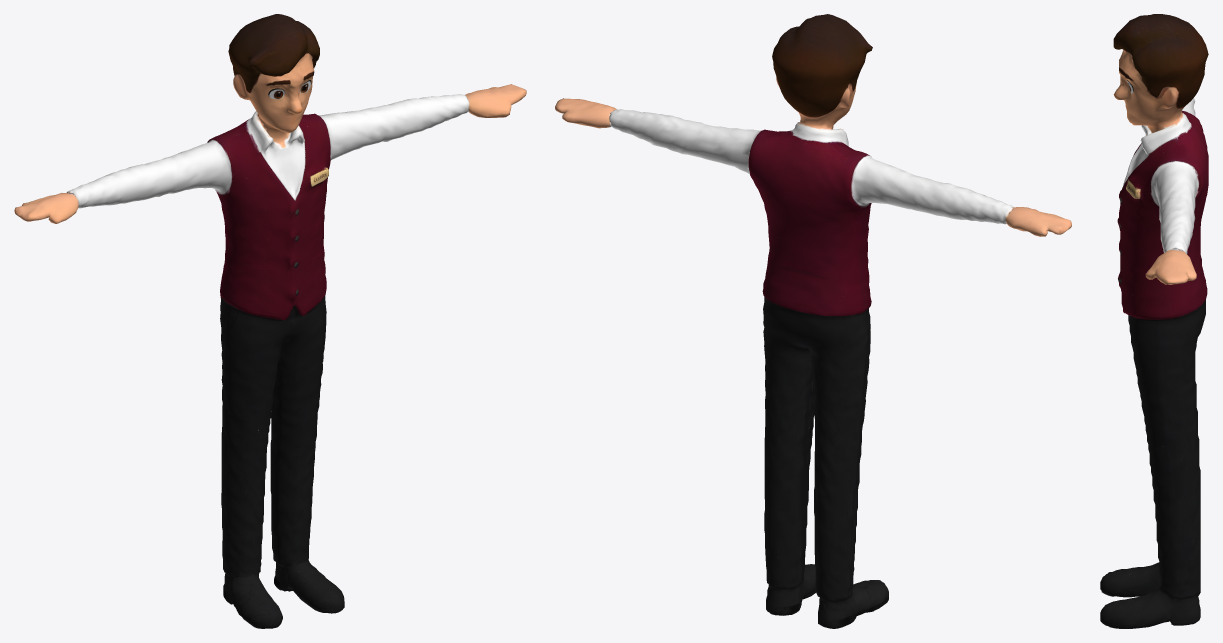
The model's file is Meshy_AI_Friendly_Cashier_0531140142_texture.fbx.
3 renders of one model, left to right at view 1: azimuth 30°, elevation 25°; view 2: azimuth 150°, elevation 25°; view 3: azimuth 270°, elevation 25°, orthographic.
Visible parts, largest first — view 1: Mesh_0; view 2: Mesh_0; view 3: Mesh_0.
Part boxes in pixels (bbox=[...]): Mesh_0: bbox=[14, 14, 526, 628]; Mesh_0: bbox=[555, 14, 1071, 628]; Mesh_0: bbox=[1100, 14, 1208, 628].
Bounding box in the file's own units: 173 × 191 × 31.7.
1 material, 1 textured.
